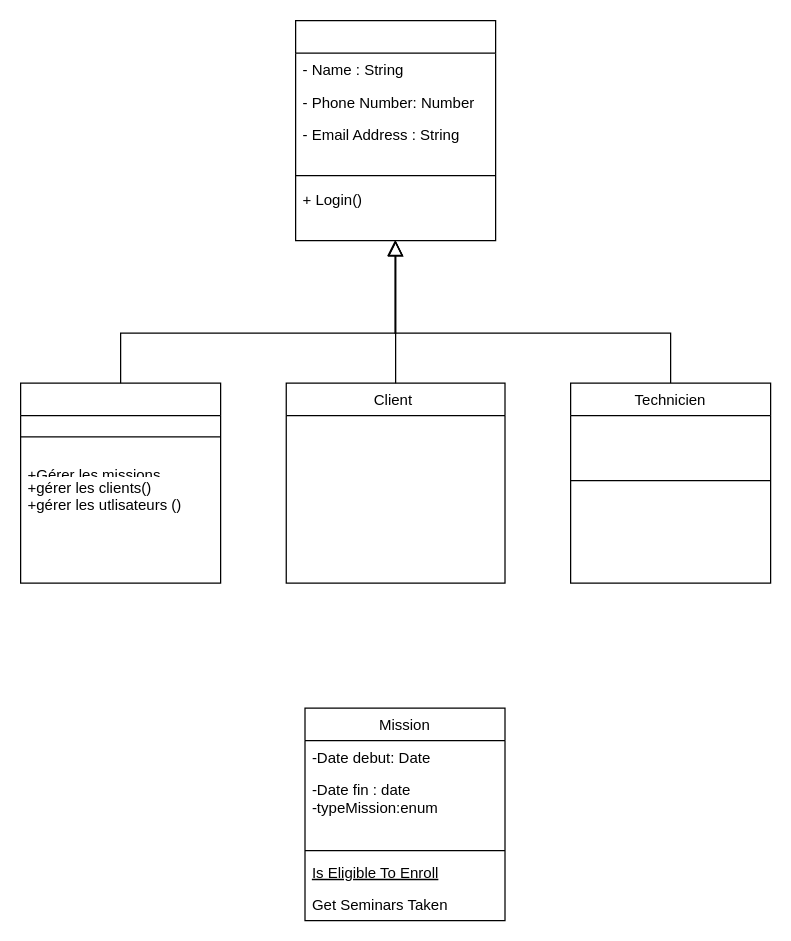
Image size: 791x941. Some labels were removed from this diagram. The box of each missing label's shape, as (x1, y1, x2, y2) in pixels:
Manager: (19, 382, 221, 583)
Utilisateur: (294, 19, 496, 241)
